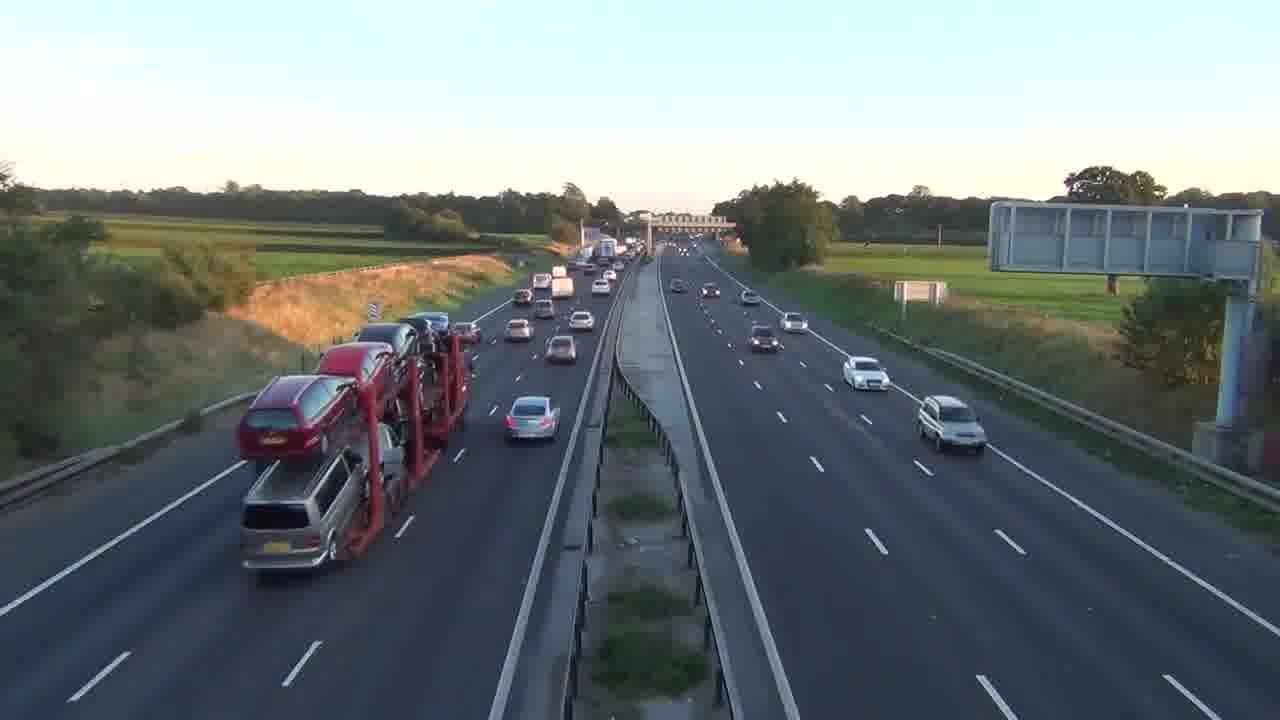car: (237, 372, 357, 464), (914, 394, 988, 455), (502, 395, 561, 443), (841, 355, 890, 392), (544, 333, 578, 365), (504, 317, 533, 342), (780, 311, 808, 333), (569, 309, 594, 330), (702, 283, 721, 297)
